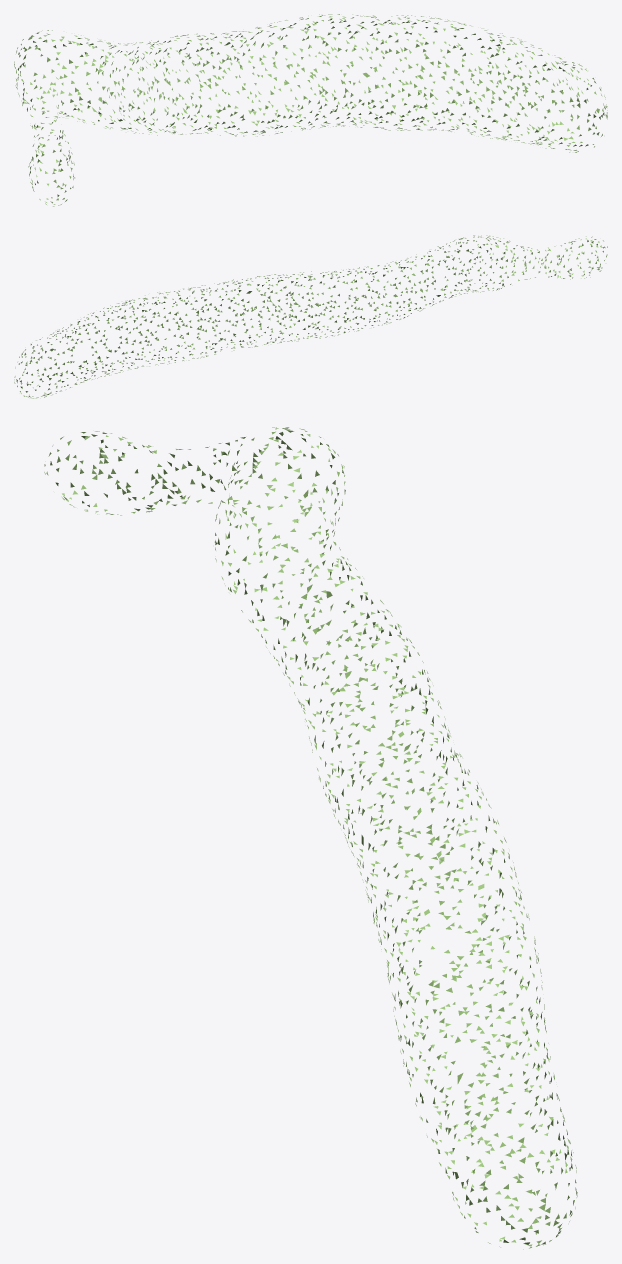
The model's file is morph_013.glb.
The picture shows the model from 3 angles, top to bottom: view 1: azimuth 30°, elevation 25°; view 2: azimuth 150°, elevation 25°; view 3: azimuth 270°, elevation 25°; orthographic projection. The views are drawn at different scales.
Size of the model in its own units: 124 by 53.25 by 60.54.
